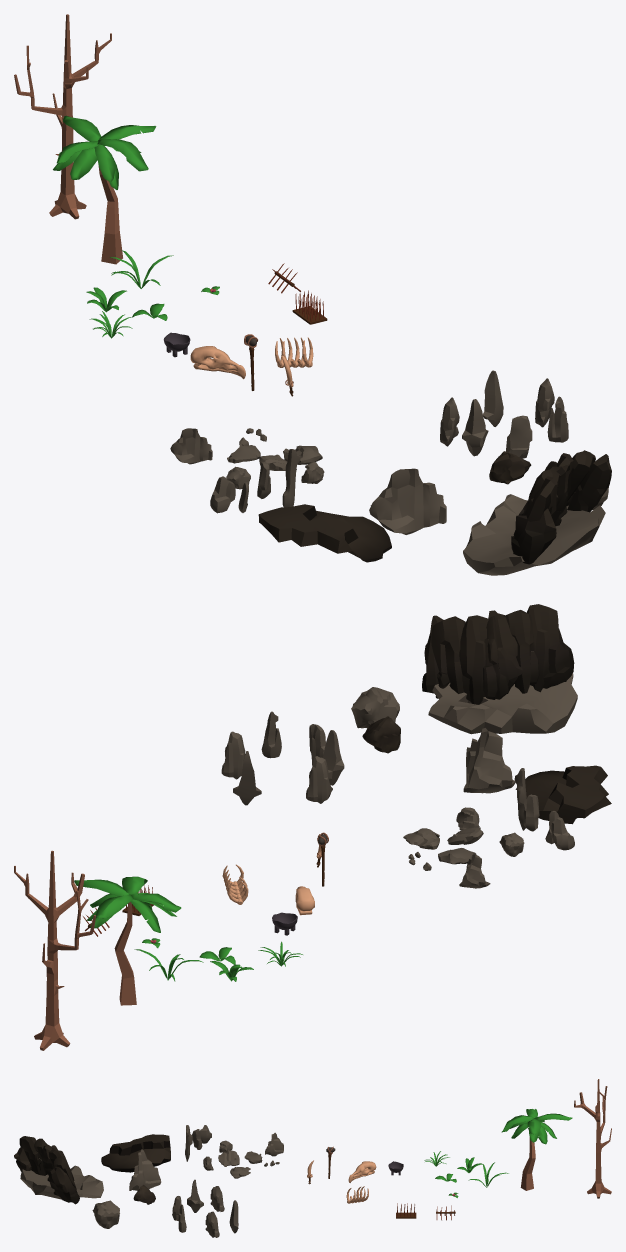
File: Props Prehistoria.fbx
3 renders of one model, top to bottom at view 1: azimuth 30°, elevation 25°; view 2: azimuth 150°, elevation 25°; view 3: azimuth 270°, elevation 25°, orthographic. The views are drawn at different scales.
Parts seen in each view (by area): view 1: R.008, R, ARBOL, R.010, R.006, TRONCO, R.024, CABEZA, R.037, R.035, R.027, R.023; view 2: R.008, R, ARBOL, R.010, TRONCO, R.006, R.005, R.037, R.009, R.004, R.023, R.035 (+2 smaller); view 3: R.008, R.010, ARBOL, R, TRONCO, R.006, R.005, CABEZA, R.024, R.004, R.035, R.007 (+4 smaller).
Boxes of the visible parts, bbox=[...] form: R.008: bbox=[511, 450, 611, 564]; R: bbox=[463, 494, 605, 575]; ARBOL: bbox=[53, 115, 156, 264]; R.010: bbox=[258, 504, 391, 562]; R.006: bbox=[369, 468, 446, 534]; TRONCO: bbox=[14, 14, 111, 219]; R.024: bbox=[170, 428, 212, 464]; CABEZA: bbox=[190, 346, 245, 379]; R.037: bbox=[489, 451, 531, 484]; R.035: bbox=[462, 399, 488, 456]; R.027: bbox=[506, 415, 532, 458]; R.023: bbox=[483, 370, 503, 426]; R.008: bbox=[422, 604, 574, 704]; R: bbox=[428, 673, 577, 734]; ARBOL: bbox=[74, 876, 181, 1005]; R.010: bbox=[515, 765, 611, 824]; TRONCO: bbox=[14, 850, 95, 1050]; R.006: bbox=[463, 728, 515, 793]; R.005: bbox=[351, 687, 399, 728]; R.037: bbox=[362, 716, 400, 753]; R.009: bbox=[306, 756, 332, 803]; R.004: bbox=[221, 731, 245, 779]; R.023: bbox=[233, 751, 261, 805]; R.035: bbox=[322, 730, 344, 785]; R.008: bbox=[14, 1136, 79, 1204]; R.010: bbox=[101, 1134, 170, 1172]; ARBOL: bbox=[501, 1109, 572, 1190]; R: bbox=[20, 1165, 103, 1199]; TRONCO: bbox=[574, 1079, 611, 1198]; R.006: bbox=[129, 1149, 161, 1190]; R.005: bbox=[92, 1200, 119, 1228]; CABEZA: bbox=[348, 1161, 376, 1182]; R.024: bbox=[265, 1132, 283, 1156]; R.004: bbox=[205, 1211, 219, 1237]; R.035: bbox=[187, 1179, 203, 1212]; R.007: bbox=[218, 1150, 239, 1166].
Size of the model in its own units: 1957 by 1139 by 4970.
